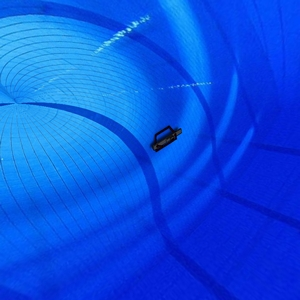submarine: (149, 126, 192, 156)
